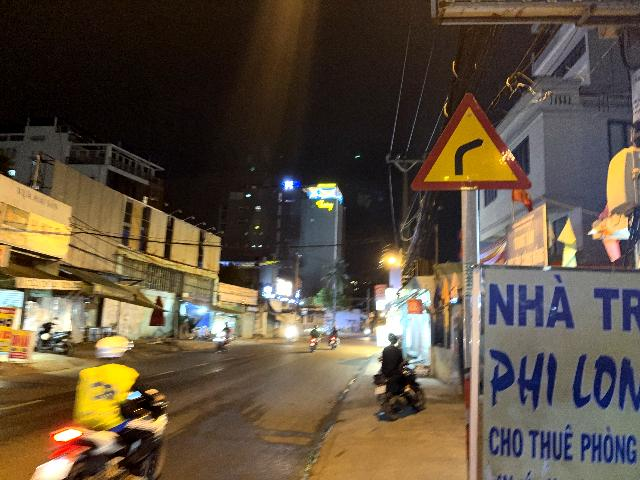cho-ngoat-nguy-hiem-ben-phai: (410, 92, 532, 191)
